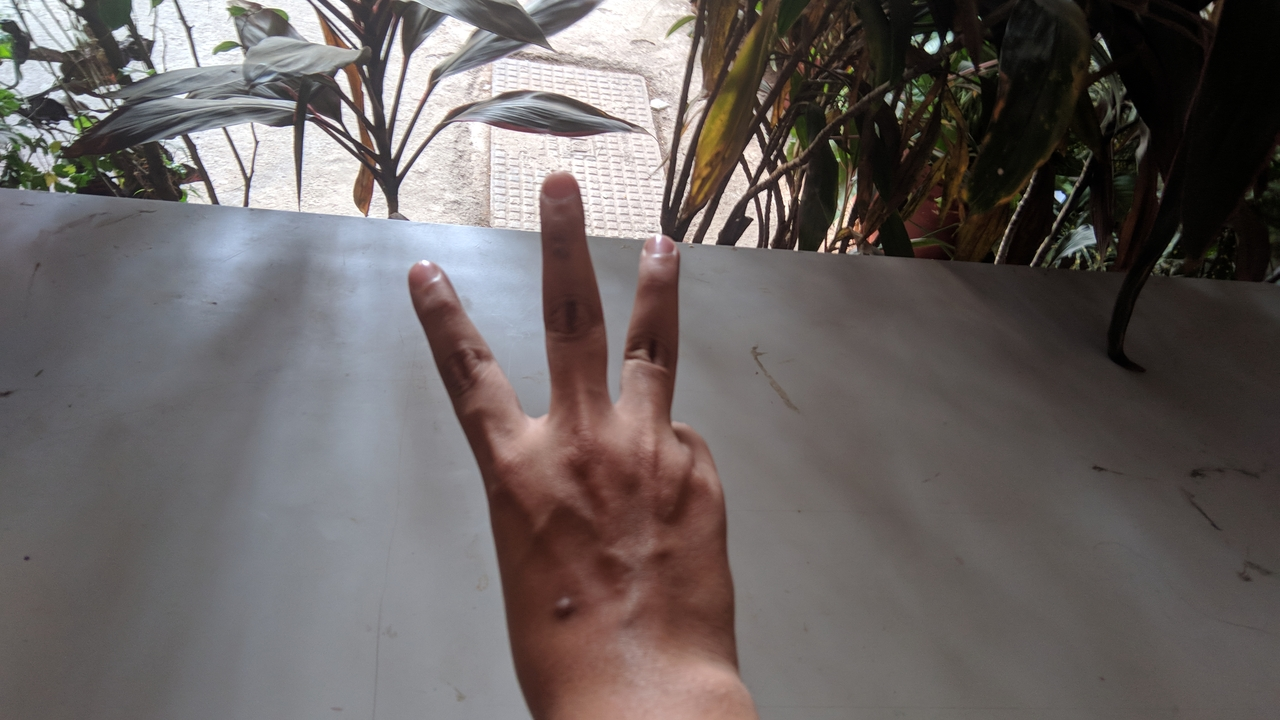fingertip: (394, 252, 458, 312), (534, 162, 586, 214), (634, 230, 682, 280)
